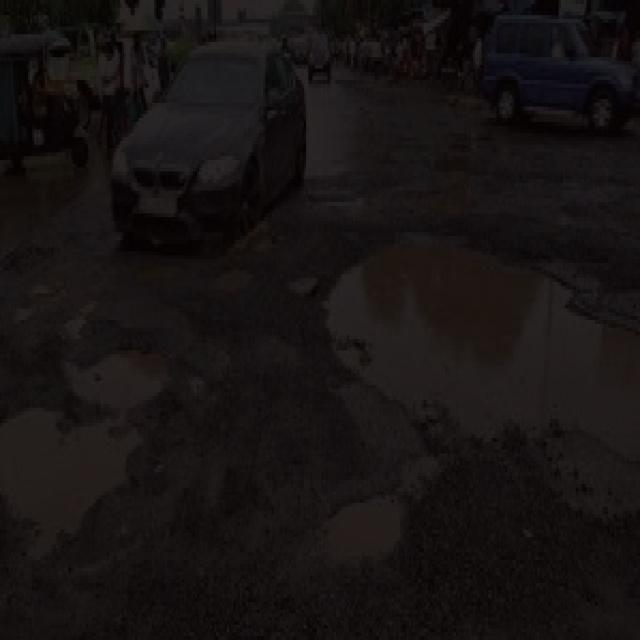Pothole: (317, 217, 640, 509), (0, 392, 153, 567), (288, 477, 422, 584), (62, 325, 176, 414)
